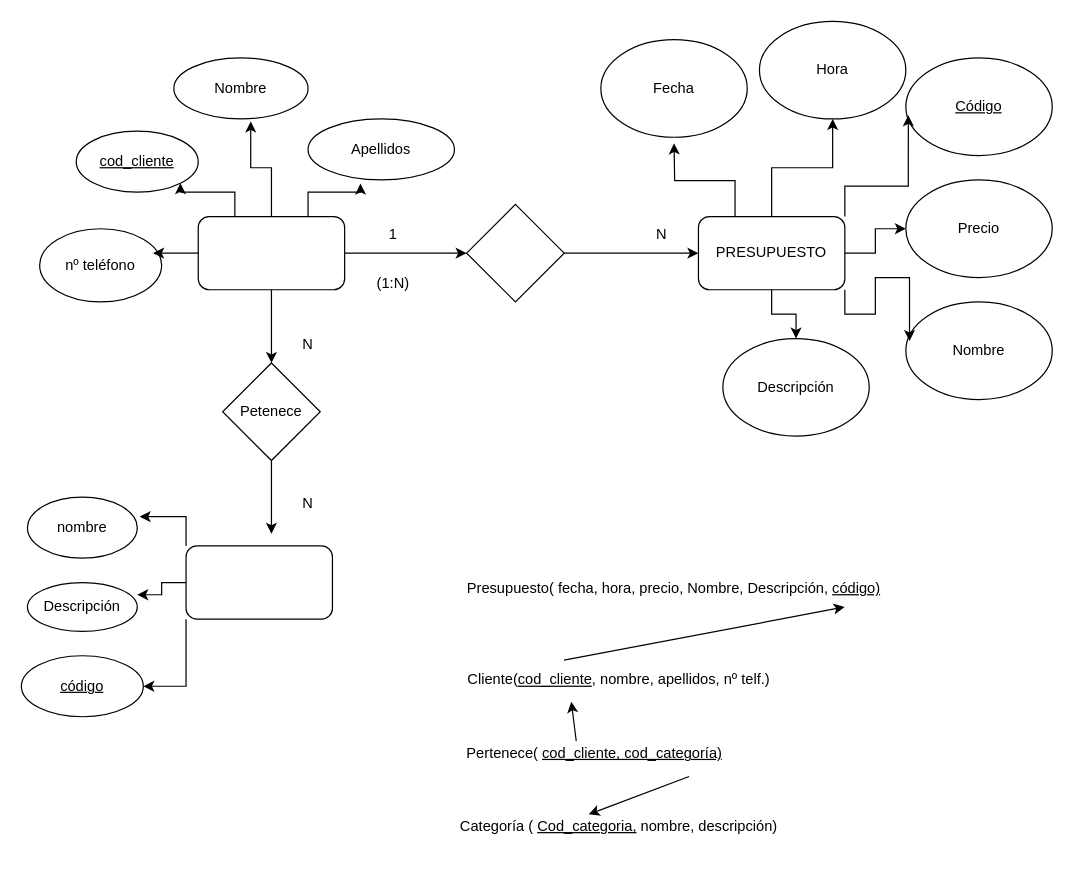
Image size: 1074x872. Some labels were removed from this diagram. Here are the shapes that lost their labels. From the top down, the centre of each, then its label:
At pixel 271 252: "CLIENTE".
At pixel 514 252: "Pide".
At pixel 258 582: "CATEGORÍA".
